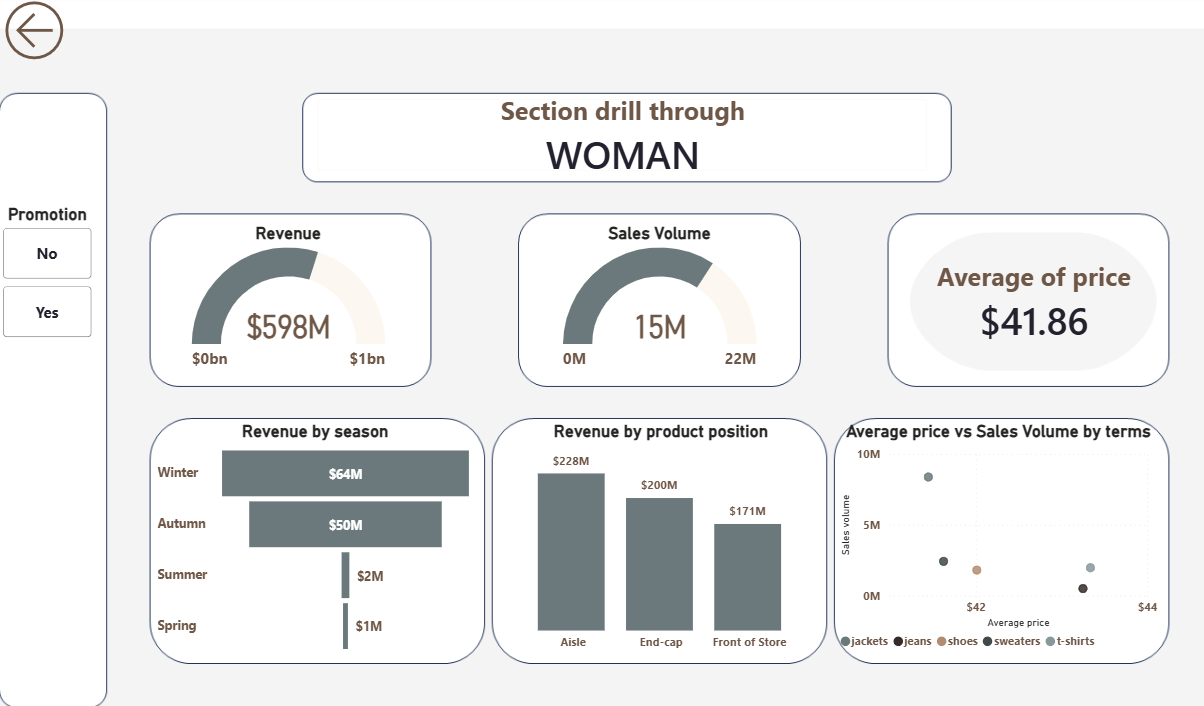

Layout of this report page (visuals, bound fields, positions):
{"tool":"powerbi","page":{"name":"DRILL THROUGH","canvas":[1280,800],"ordinal":2},"visuals":[{"type":"gauge","title":"Sales Volume","fields":{"Y":["Sum(Business_sales_EDA.Sales Volume)"]},"box":[561.8,243.5,280.1,163.9],"z":0},{"type":"actionButton","box":[0,0,104.8,77.1],"z":1000},{"type":"gauge","fields":{"Y":["Business_sales_EDA.Revenue"]},"box":[163.9,243.5,288.1,163.9],"z":2000},{"type":"scatterChart","title":"Average price vs Sales Volume by terms","fields":{"Category":["Business_sales_EDA.section"],"Y":["Sum(Business_sales_EDA.Sales Volume)"],"X":["Avg(Business_sales_EDA.price)"],"Series":["Business_sales_EDA.terms"]},"box":[888.1,453.6,347,251.5],"z":3000},{"type":"columnChart","title":"Revenue by product position","fields":{"Category":["Business_sales_EDA.Product Position"],"Y":["Business_sales_EDA.Revenue"]},"box":[530,453.6,347,251.5],"z":4000},{"type":"cardVisual","fields":{"Data":["Avg(Business_sales_EDA.price)"]},"box":[950.2,235.5,296,181.4],"z":5000},{"type":"funnel","fields":{"Category":["Business_sales_EDA.season"],"Y":["Business_sales_EDA.Revenue"]},"box":[163.9,453.6,345.4,251.5],"z":6000},{"type":"cardVisual","fields":{"Data":["Min(Business_sales_EDA.section)"]},"box":[321.5,93.9,681.2,111.4],"z":7000},{"type":"advancedSlicerVisual","fields":{"Values":["Business_sales_EDA.Promotion"]},"box":[0,222.3,104.8,146.4],"z":8000}]}

Visuals, with their boxes on the page's 1280x800 design canvas (x1, y1, x2, y2). These are canvas units, not pixel positions in the 1204x706 screenshot, which may show the page scaled, cropped or inside an application window:
"Sales Volume" gauge: [562, 244, 842, 407]
actionButton: [0, 0, 105, 77]
gauge - Business_sales_EDA.Revenue: [164, 244, 452, 407]
"Average price vs Sales Volume by terms" scatterChart: [888, 454, 1235, 705]
"Revenue by product position" columnChart: [530, 454, 877, 705]
cardVisual - Avg(Business_sales_EDA.price): [950, 236, 1246, 417]
funnel - Business_sales_EDA.season x Business_sales_EDA.Revenue: [164, 454, 509, 705]
cardVisual - Min(Business_sales_EDA.section): [322, 94, 1003, 205]
advancedSlicerVisual - Business_sales_EDA.Promotion: [0, 222, 105, 369]
